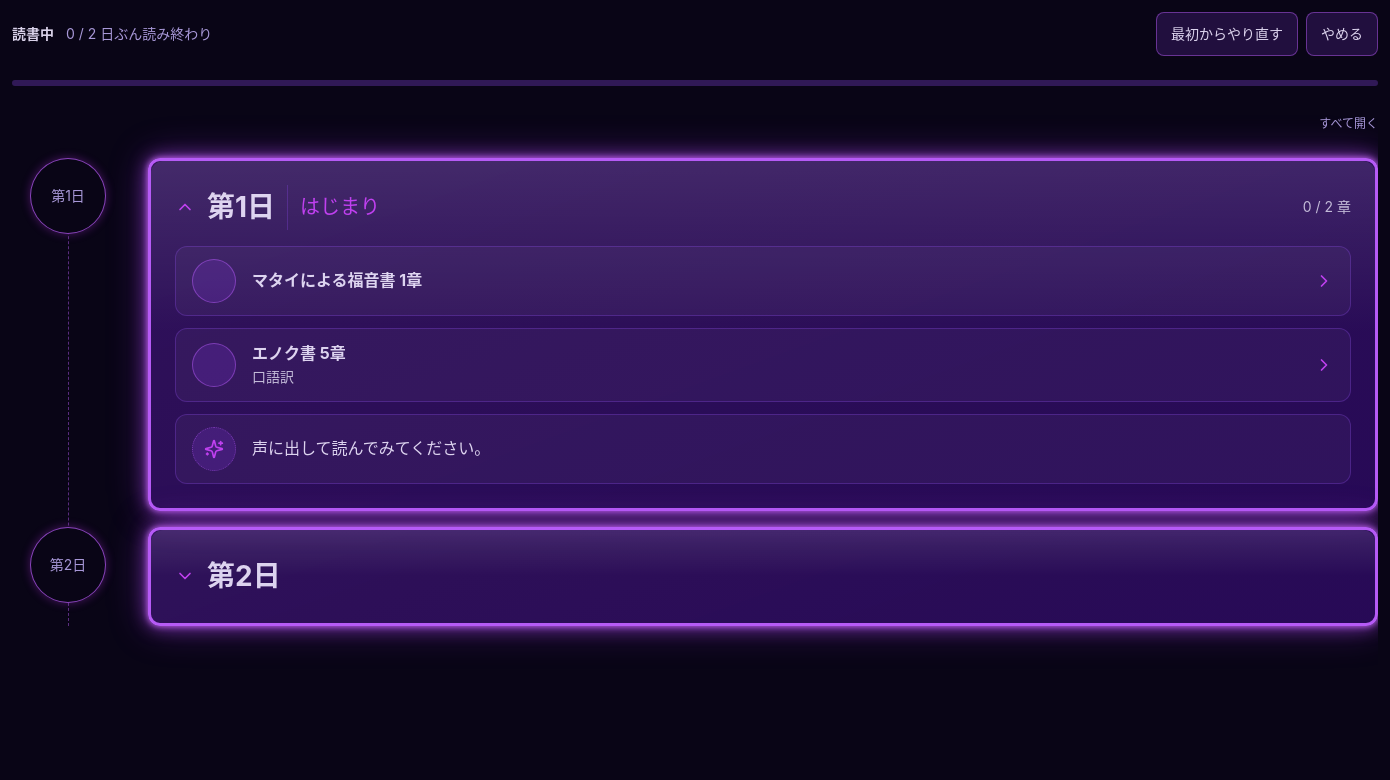
Test: プランを読み進めるところ › 閉じている日でも、読む章が見出しの下に1行で出る
Click the button "第1日 はじまり": x=241, y=207 [175,185,1291,230]
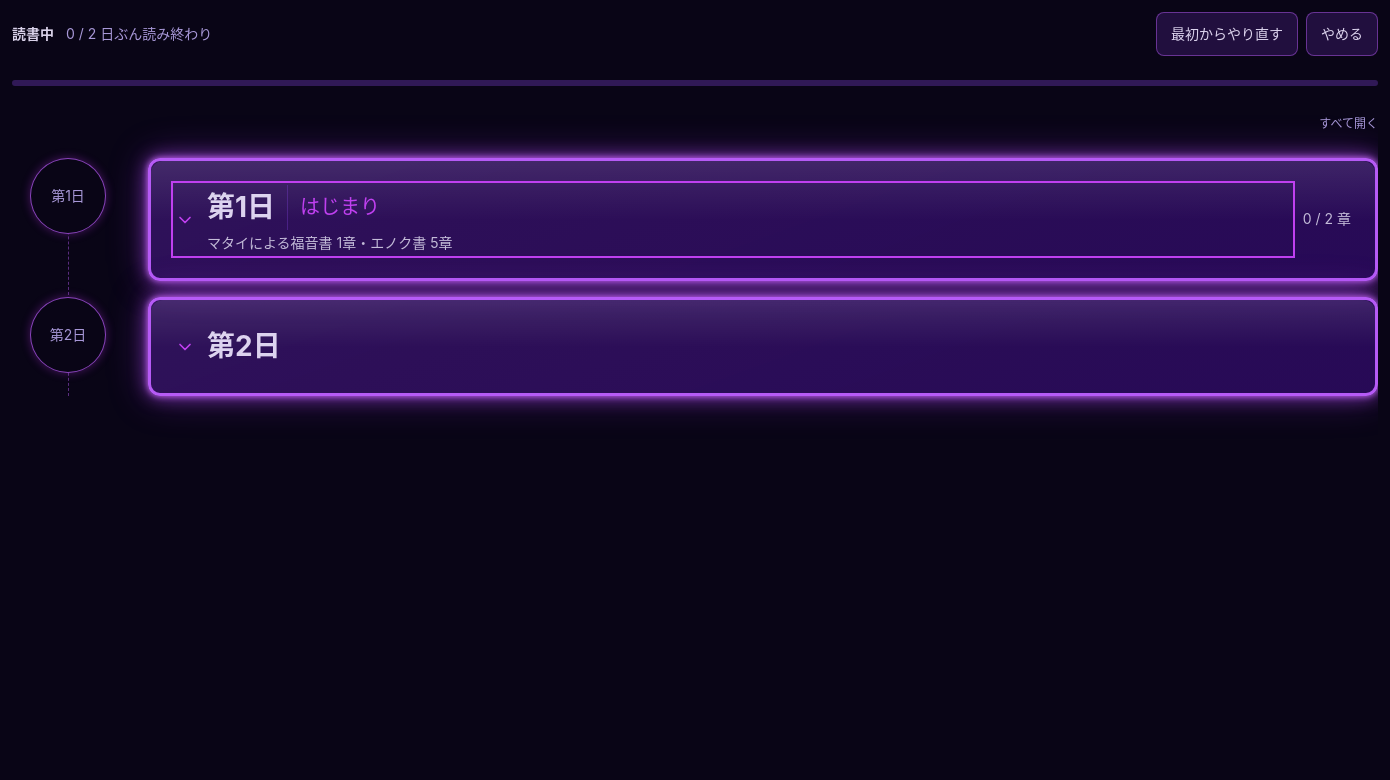
Result: the button "第1日 はじまり マタイによる福音書 1章・エノク書 5章" is shown at [175,185,1291,254]
